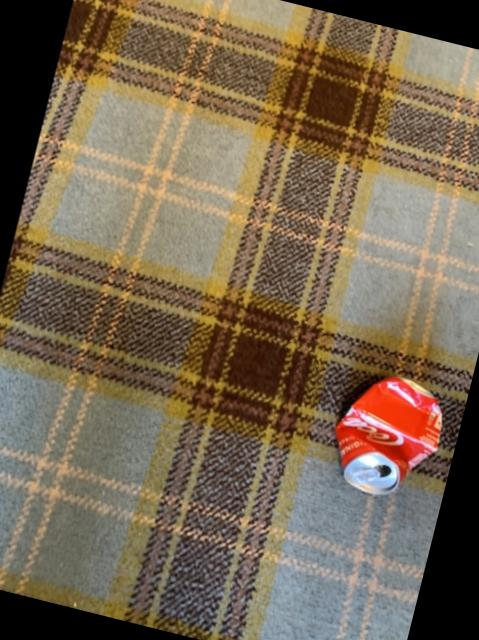metal: (336, 379, 442, 496)
